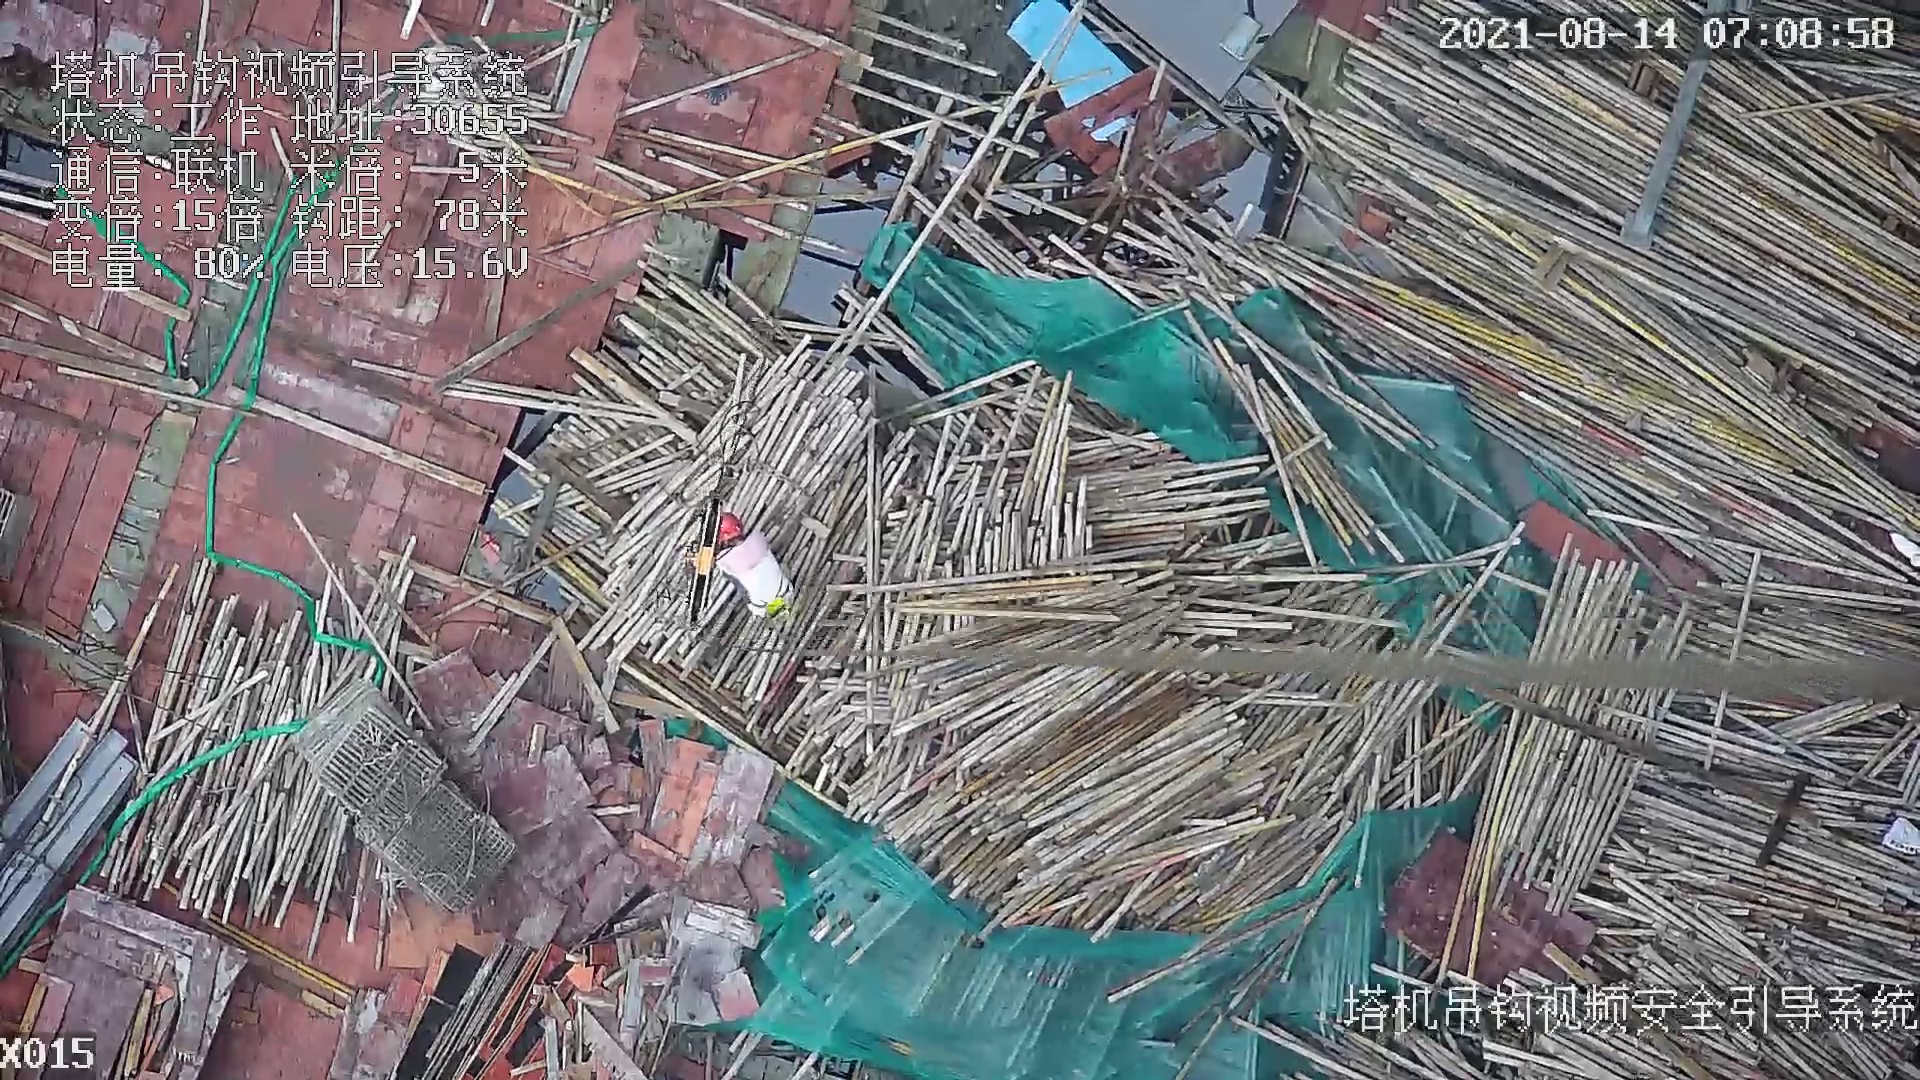helmet: (720, 513, 744, 547)
hook: (678, 499, 727, 631)
person: (710, 506, 799, 618)
